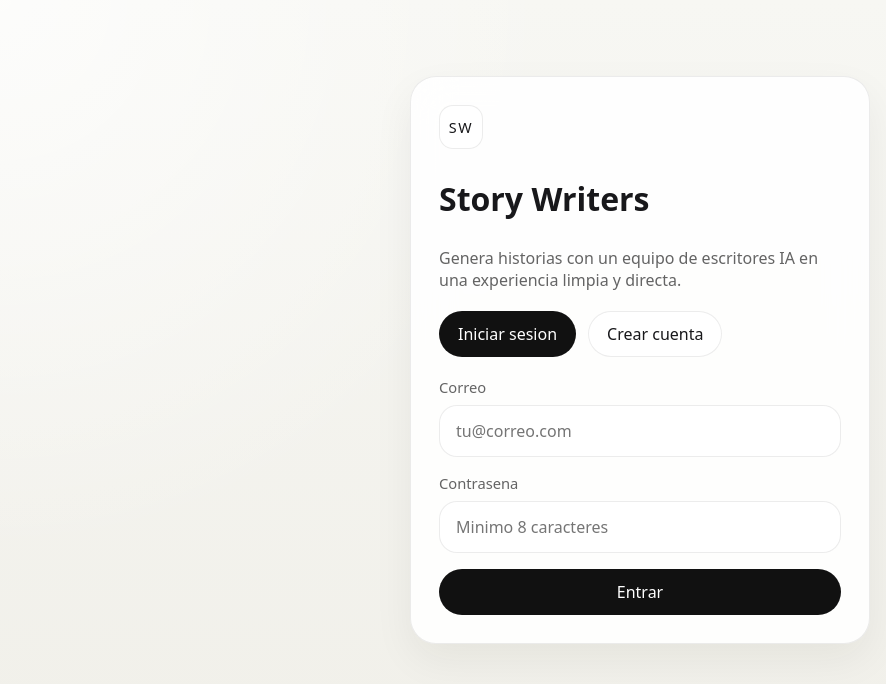
it: AuthPanel › renders API errors
In the field labelled "Correo": (640, 431) [439,405,841,457], type "writer@example.com"
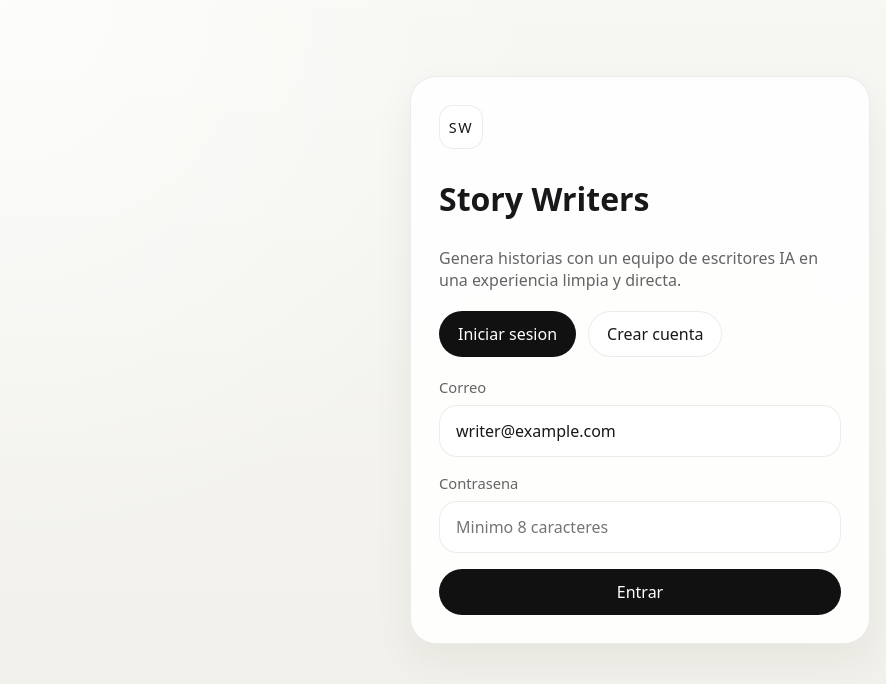
In the password field labelled "Contrasena": (640, 527) [439,501,841,553], type "wrongpass123"
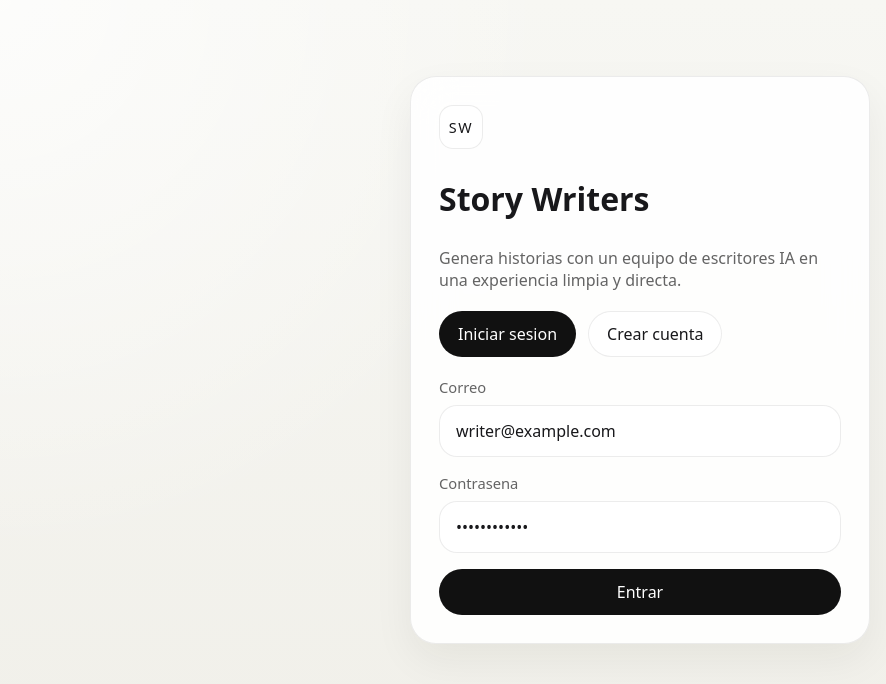
Click the button "Entrar": (640, 592) [439,569,841,615]
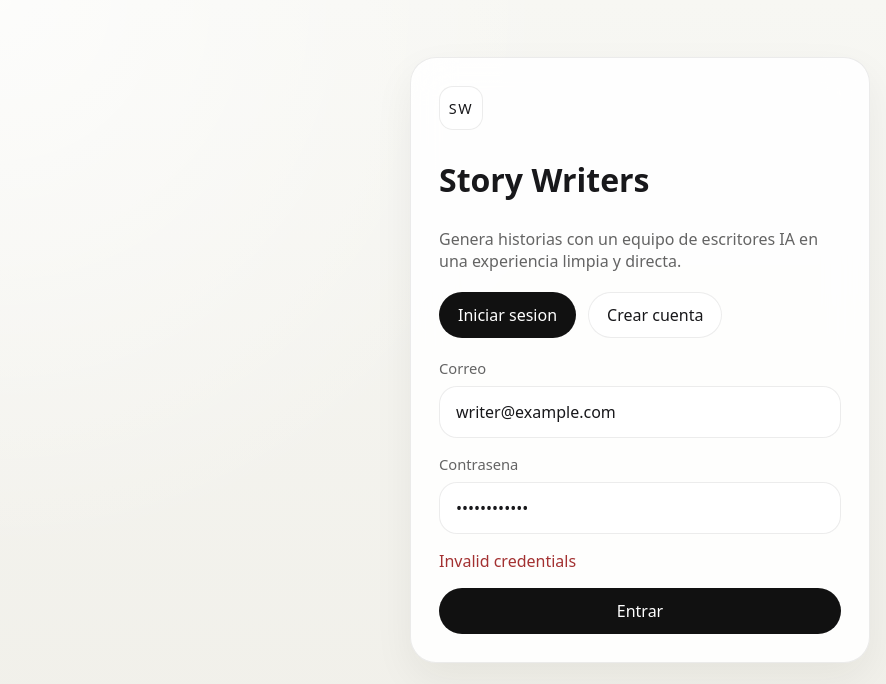
Check: the text "Invalid credentials" is shown, box [439,550,576,572]
